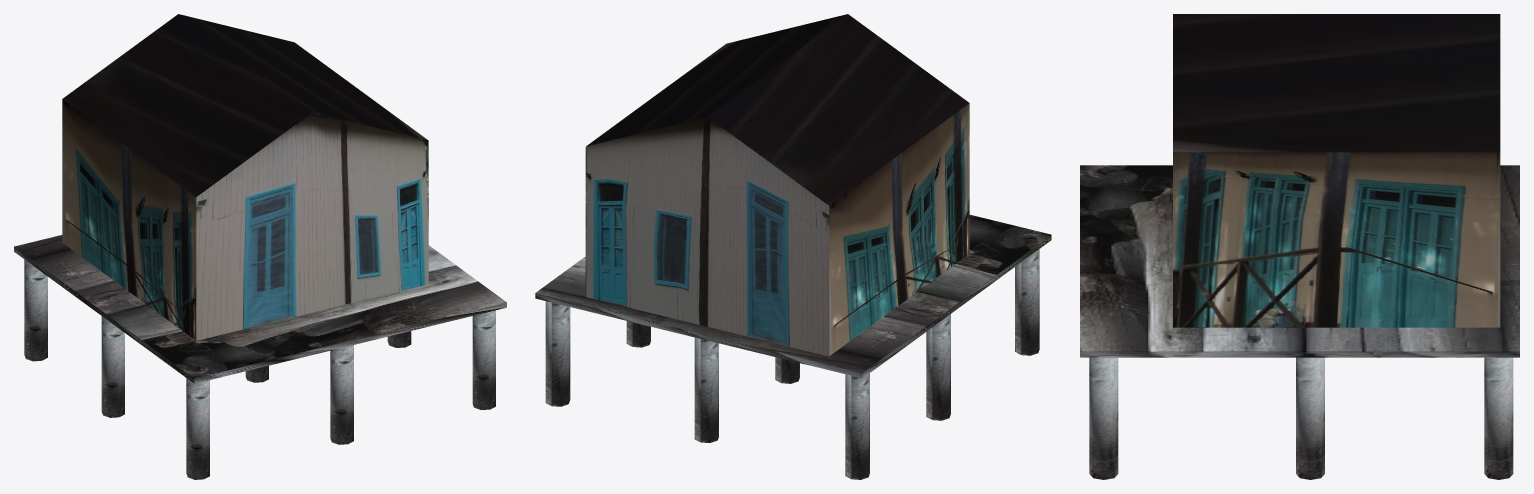
Rendered from Casa01.glb.
3 views of the same model, side by side, from view 1: azimuth 30°, elevation 25°; view 2: azimuth 150°, elevation 25°; view 3: azimuth 270°, elevation 25° (orthographic). The views are drawn at different scales.
Parts seen in each view (by area): view 1: Cube.016, Cube.017, Cube.018, Cube.021, Cube.024, Cube.019, Cube.020; view 2: Cube.016, Cube.017, Cube.026, Cube.020, Cube.023, Cube.018, Cube.019, Cube.022, Cube.025; view 3: Cube.016, Cube.017, Cube.024, Cube.026, Cube.025.
Boxes of the visible parts, left/top/right/bottom form: Cube.016: left=62, top=14, right=428, bottom=340; Cube.017: left=14, top=235, right=506, bottom=383; Cube.018: left=186, top=378, right=209, bottom=479; Cube.021: left=330, top=345, right=353, bottom=444; Cube.024: left=472, top=310, right=495, bottom=409; Cube.019: left=101, top=316, right=124, bottom=417; Cube.020: left=24, top=259, right=47, bottom=361; Cube.016: left=585, top=14, right=969, bottom=356; Cube.017: left=535, top=214, right=1051, bottom=378; Cube.026: left=545, top=301, right=570, bottom=406; Cube.020: left=845, top=373, right=869, bottom=479; Cube.023: left=694, top=337, right=718, bottom=442; Cube.018: left=1015, top=249, right=1039, bottom=355; Cube.019: left=926, top=314, right=950, bottom=420; Cube.022: left=775, top=357, right=799, bottom=383; Cube.025: left=626, top=321, right=650, bottom=347; Cube.016: left=1173, top=14, right=1500, bottom=327; Cube.017: left=1080, top=165, right=1519, bottom=357; Cube.024: left=1089, top=357, right=1118, bottom=479; Cube.026: left=1484, top=357, right=1513, bottom=479; Cube.025: left=1296, top=357, right=1324, bottom=479.
Size of the model in its own units: 1.34 by 1.26 by 1.34.
2 materials, 2 textured.
